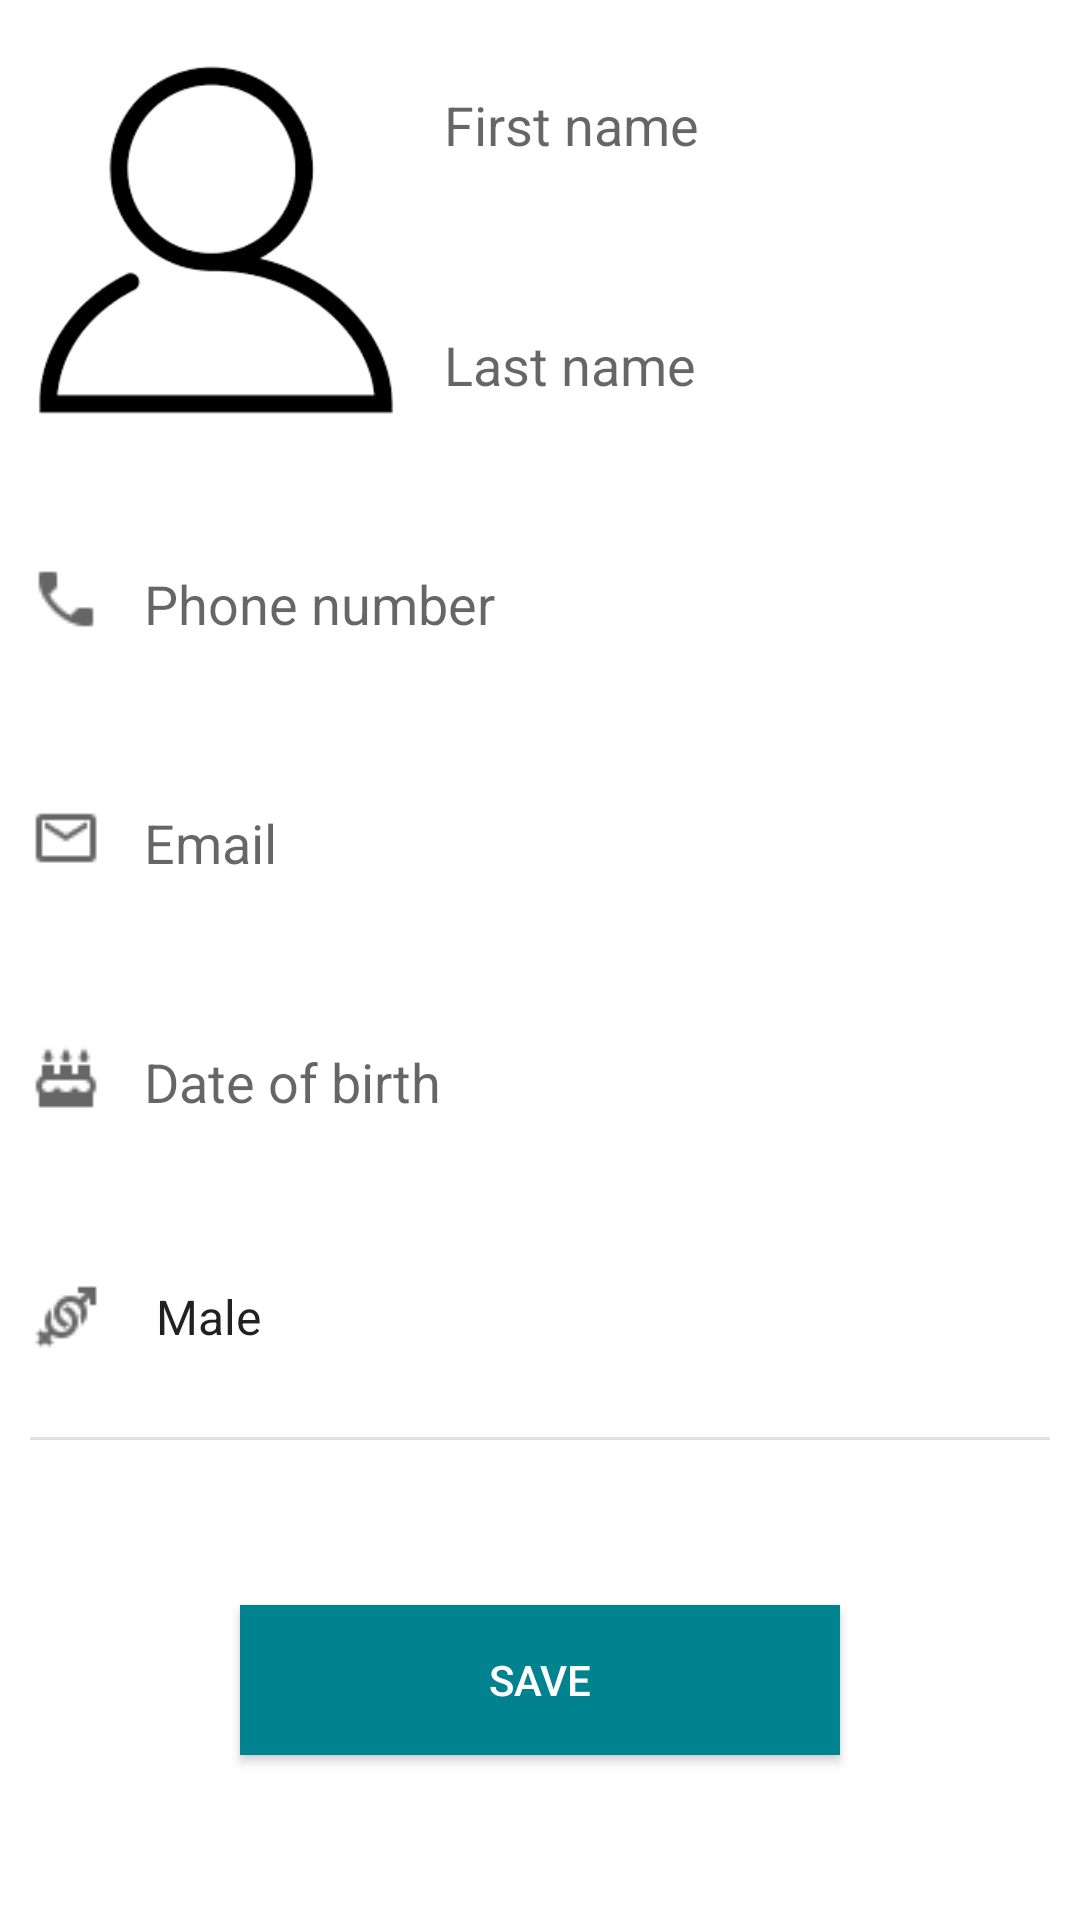

Named icons in this screenshot (1080x1920) and their centers, point (x, y):
brithday: point (66, 1078)
gender: point (66, 1316)
profile picture: point (216, 240)
telephone: point (66, 599)
